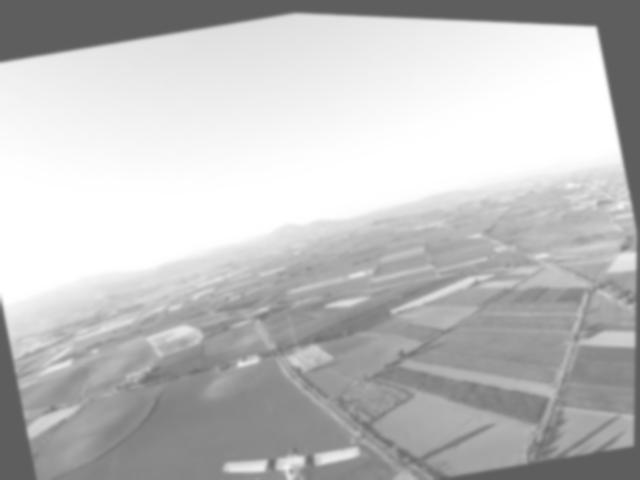hedef: (203, 407, 374, 480)
